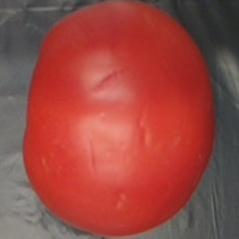unripe: (19, 0, 221, 239)
